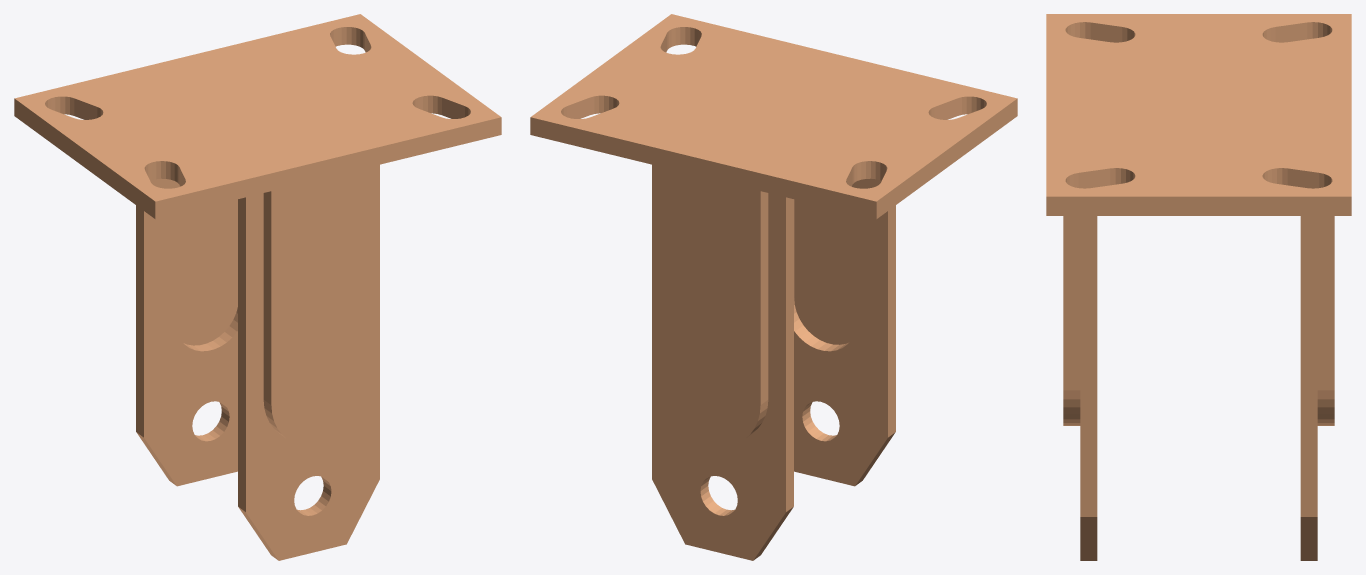
The model's file is caster_wheel_frame.glb.
3 renders of one model, left to right at view 1: azimuth 30°, elevation 25°; view 2: azimuth 150°, elevation 25°; view 3: azimuth 270°, elevation 25°, orthographic. The views are drawn at different scales.
Parts seen in each view (by area): view 1: Node1; view 2: Node1; view 3: Node1.
Boxes of the visible parts, x1=… form: Node1: x1=14, y1=14, x2=501, y2=560; Node1: x1=530, y1=14, x2=1017, y2=560; Node1: x1=1046, y1=14, x2=1351, y2=560.
Bounding box in the file's own units: 162 × 181 × 114.
